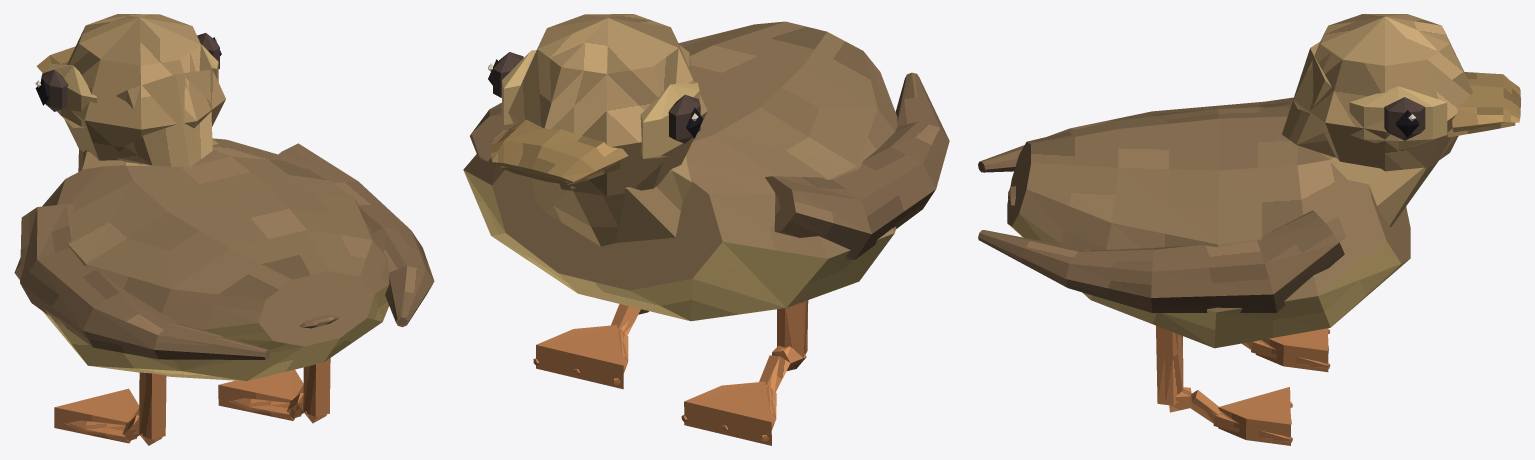
Rendered from mon_goose_chick.glb.
The picture shows the model from 3 angles, left to right: view 1: azimuth 30°, elevation 25°; view 2: azimuth 150°, elevation 25°; view 3: azimuth 270°, elevation 25°; orthographic projection. The views are drawn at different scales.
Parts seen in each view (by area): view 1: closed_body; view 2: closed_body; view 3: closed_body.
Boxes of the visible parts, x1,y1,x2,y2 form: closed_body: [14, 14, 434, 445]; closed_body: [463, 14, 949, 445]; closed_body: [978, 14, 1520, 445].
Size of the model in its own units: 0.0873 by 0.087 by 0.1142.
1 material, 1 textured.
